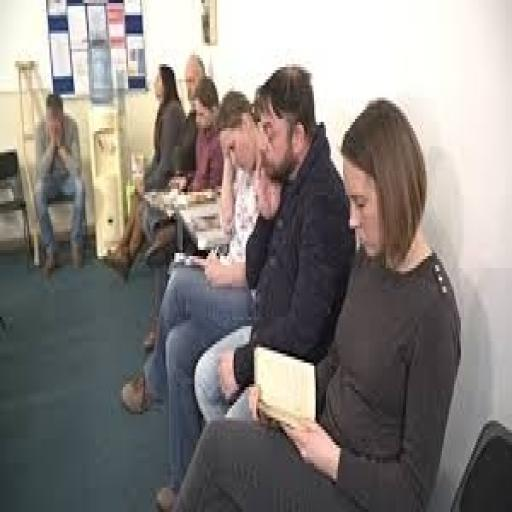sitting: (111, 52, 462, 506)
